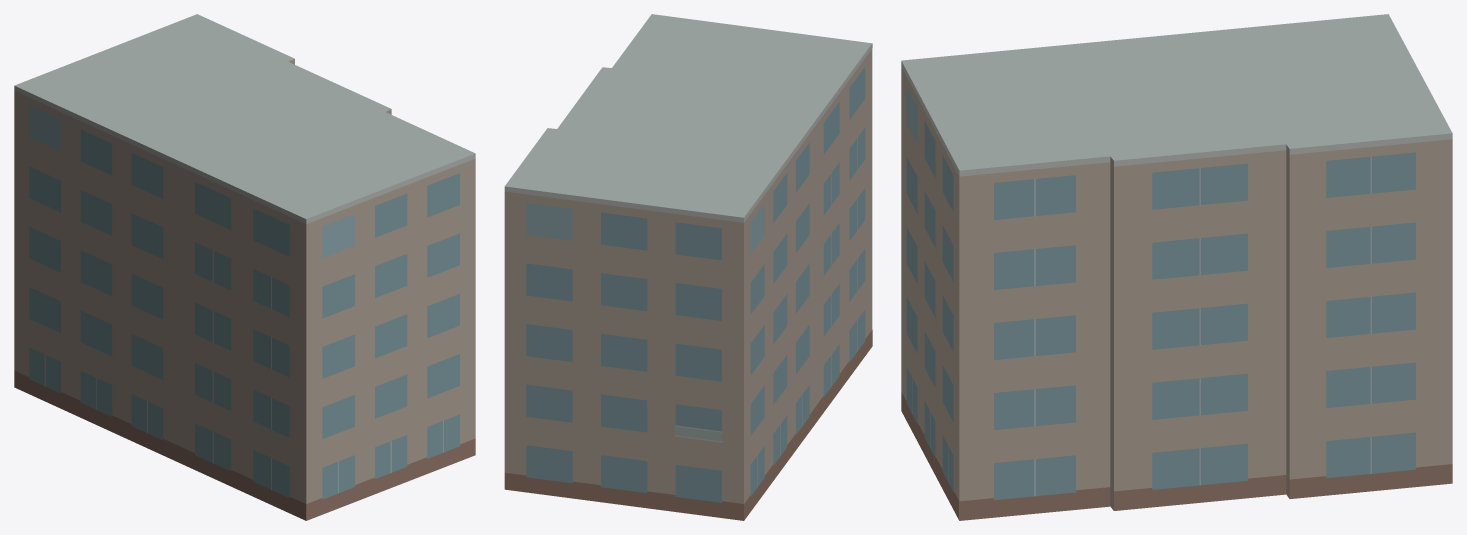
Rendered from survey-upis-33000339.glb.
3 renders of one model, left to right at view 1: azimuth 30°, elevation 25°; view 2: azimuth 150°, elevation 25°; view 3: azimuth 270°, elevation 25°, orthographic. The views are drawn at different scales.
Visible parts, largest first — view 1: survey-upis-33000339.tmp; view 2: survey-upis-33000339.tmp; view 3: survey-upis-33000339.tmp.
Part boxes in pixels (x1,y1,x2,y2): survey-upis-33000339.tmp: [14, 14, 475, 520]; survey-upis-33000339.tmp: [504, 14, 872, 520]; survey-upis-33000339.tmp: [901, 14, 1452, 520].
Size of the model in its own units: 13.92 by 14.5 by 20.7.
